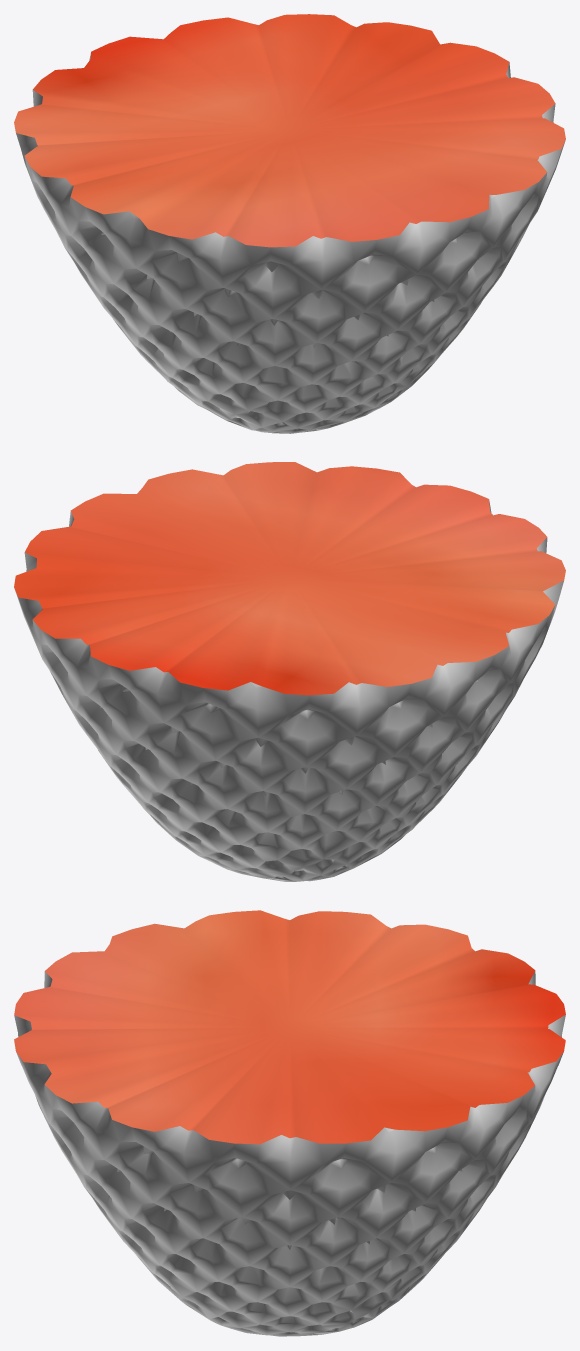
Rendered from JordGubbeBottom.fbx.
3 renders of one model, top to bottom at view 1: azimuth 30°, elevation 25°; view 2: azimuth 150°, elevation 25°; view 3: azimuth 270°, elevation 25°, orthographic. The views are drawn at different scales.
Visible parts, largest first — view 1: BerryBottom; view 2: BerryBottom; view 3: BerryBottom.
Part boxes in pixels (x1,y1,x2,y2): BerryBottom: (14, 14, 565, 433); BerryBottom: (14, 462, 565, 881); BerryBottom: (14, 910, 565, 1336).
Size of the model in its own units: 3.93 by 2.32 by 3.93.
3 materials, 1 textured.
